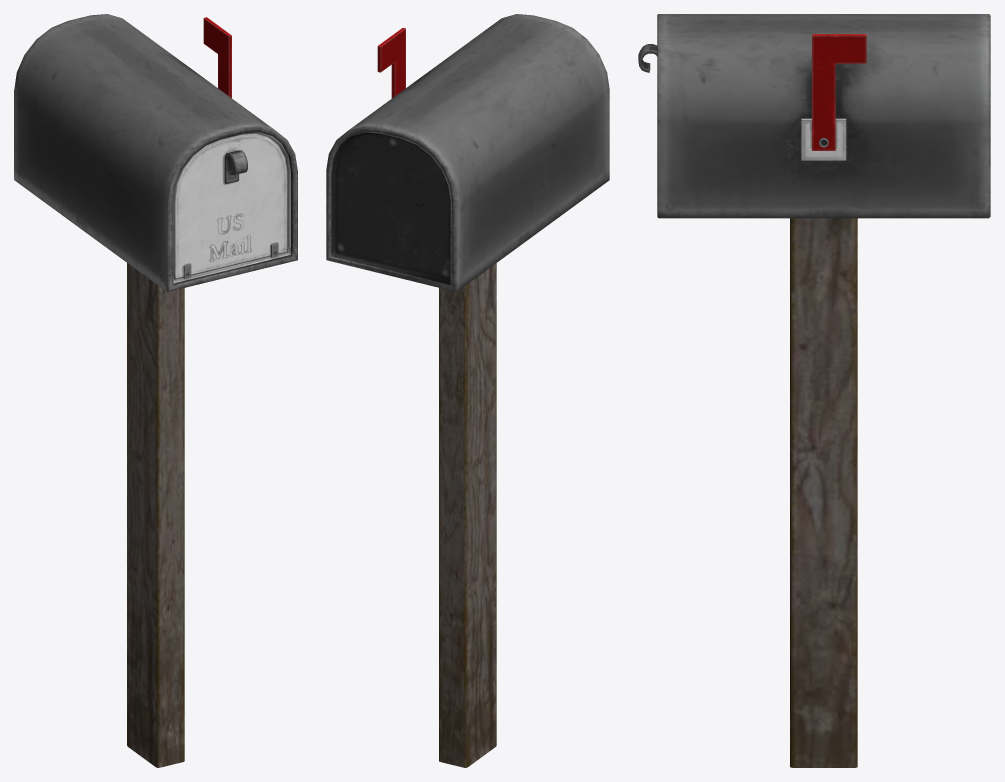
Rendered from p_mailbox.glb.
3 views of the same model, side by side, from view 1: azimuth 30°, elevation 25°; view 2: azimuth 150°, elevation 25°; view 3: azimuth 270°, elevation 25° (orthographic). The views are drawn at different scales.
Visible parts, largest first — view 1: Cube_0; view 2: Cube_0; view 3: Cube_0.
Boxes of the visible parts, <box> form: Cube_0: <box>14,14,297,767</box>; Cube_0: <box>326,14,609,767</box>; Cube_0: <box>638,14,990,767</box>.
Size of the model in its own units: 0.7313 by 3.56 by 1.49.
Materials: 1 (1 with a texture image).
